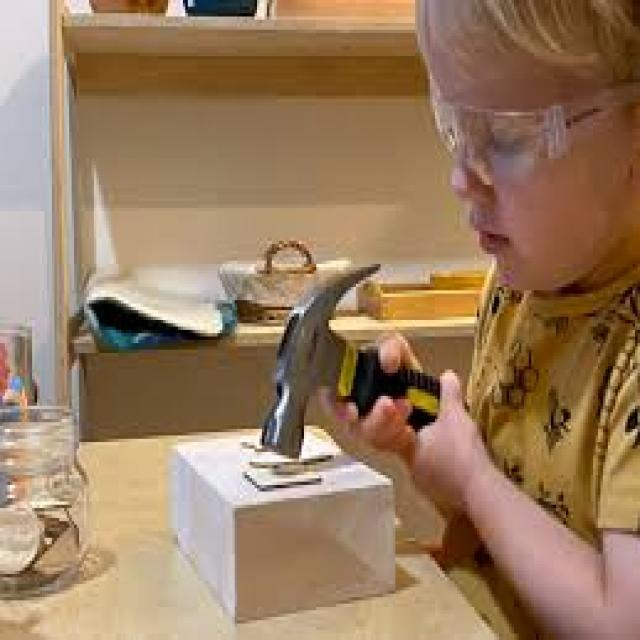hammer: (245, 244, 470, 445)
